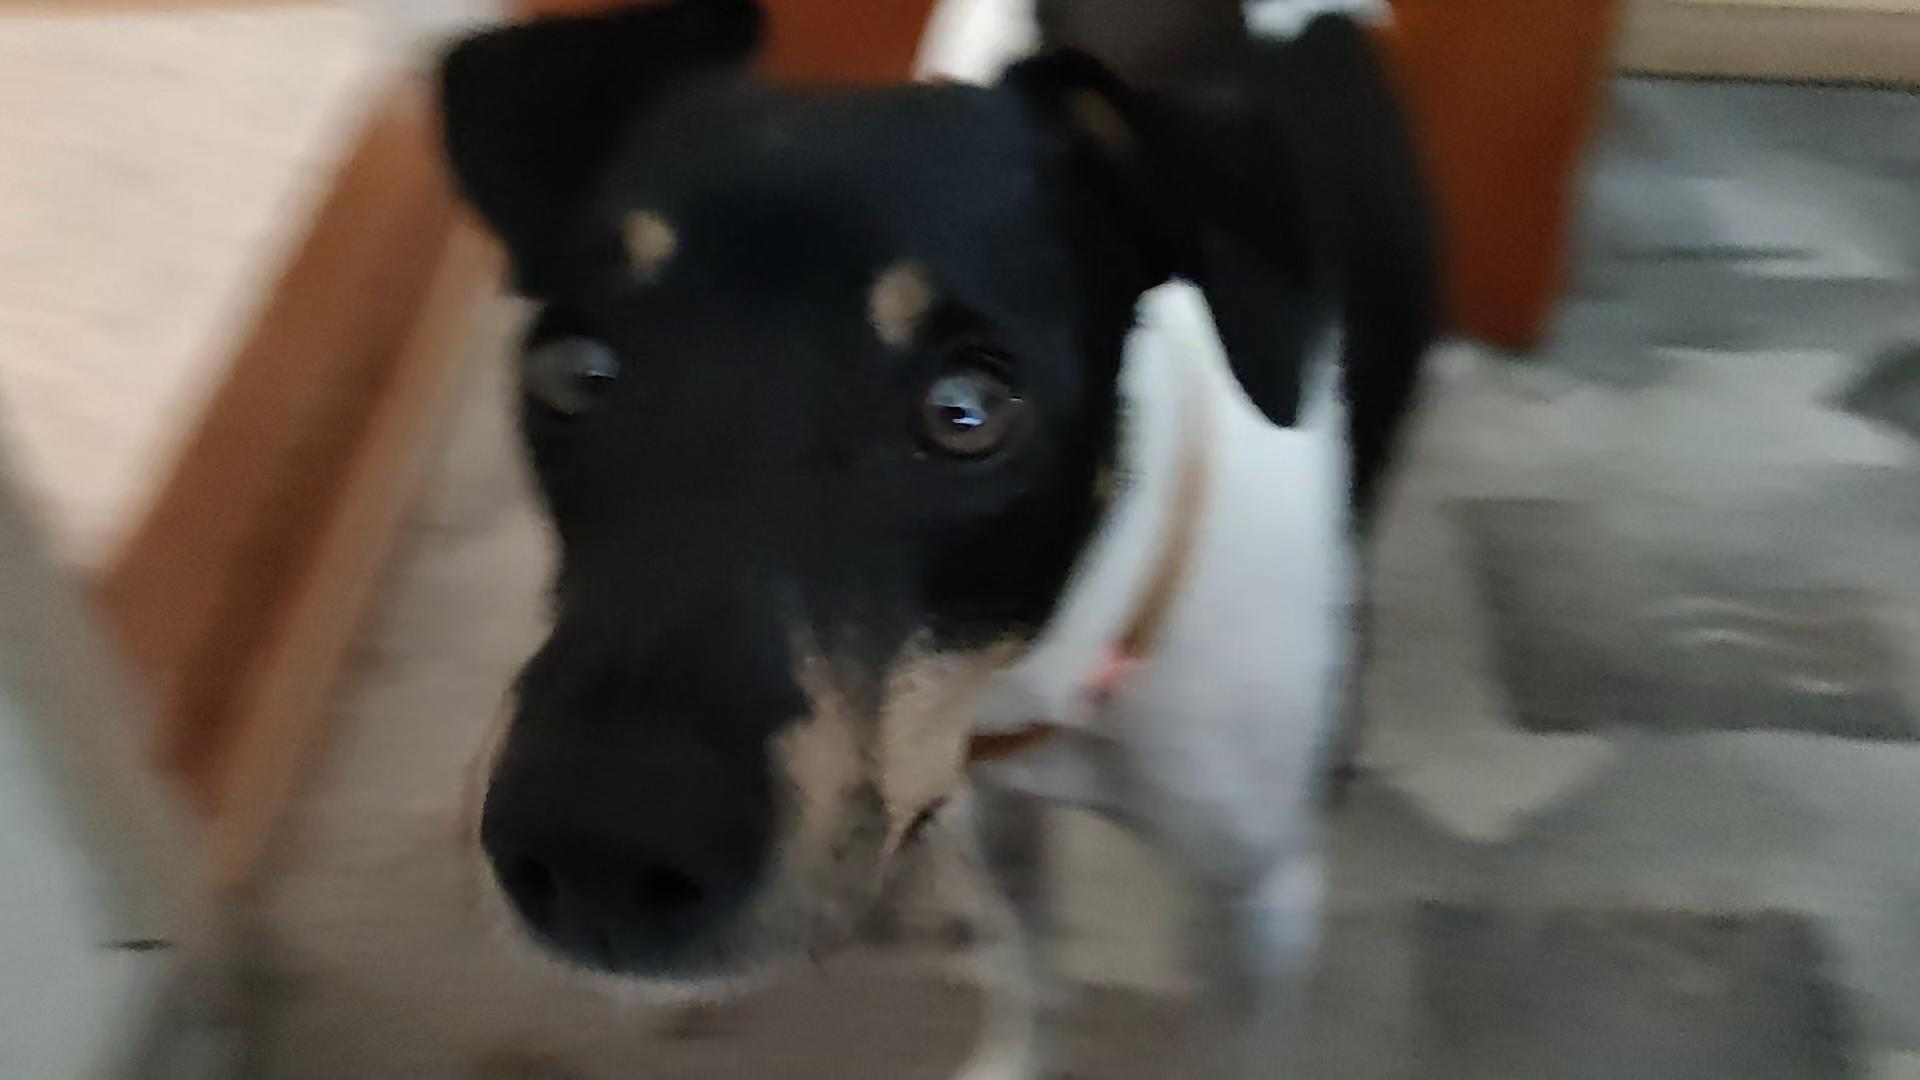Dog: (375, 0, 1534, 1079)
